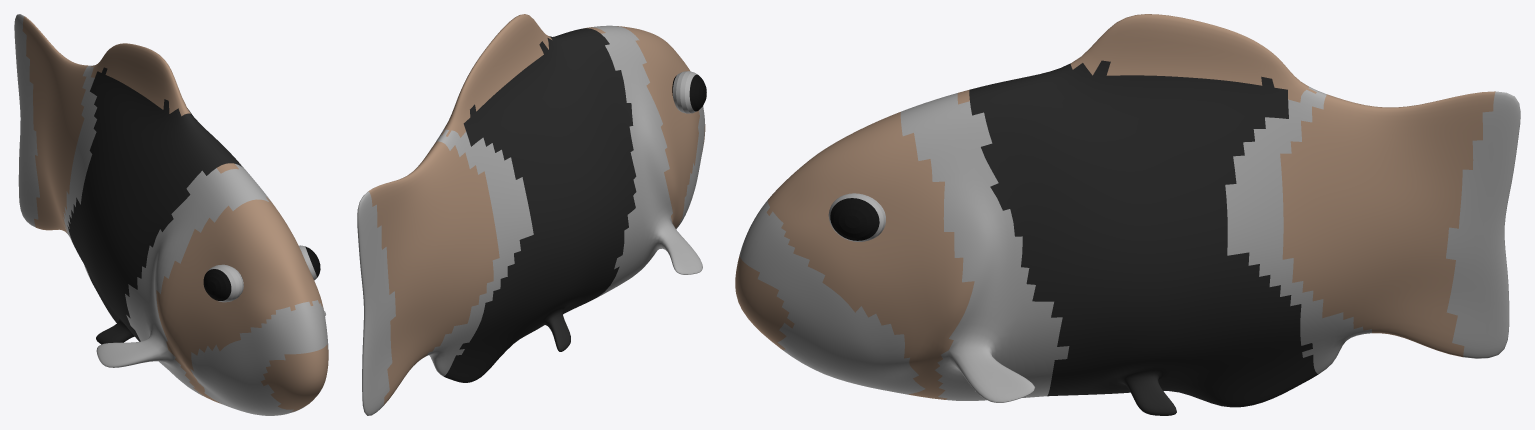
File: SheepHeadMale.fbx
3 renders of one model, left to right at view 1: azimuth 30°, elevation 25°; view 2: azimuth 150°, elevation 25°; view 3: azimuth 270°, elevation 25°, orthographic. The views are drawn at different scales.
Parts seen in each view (by area): view 1: polySurface3, polySurface1, polySurface2; view 2: polySurface3, polySurface1; view 3: polySurface3, polySurface2.
Boxes of the visible parts, x1,y1,x2,y2 form: polySurface3: (14, 14, 328, 415); polySurface1: (203, 264, 243, 302); polySurface2: (299, 245, 320, 280); polySurface3: (357, 14, 705, 415); polySurface1: (672, 71, 706, 113); polySurface3: (735, 14, 1520, 415); polySurface2: (828, 193, 885, 241).
Bounding box in the file's own units: 0.944 × 1.23 × 2.22.
